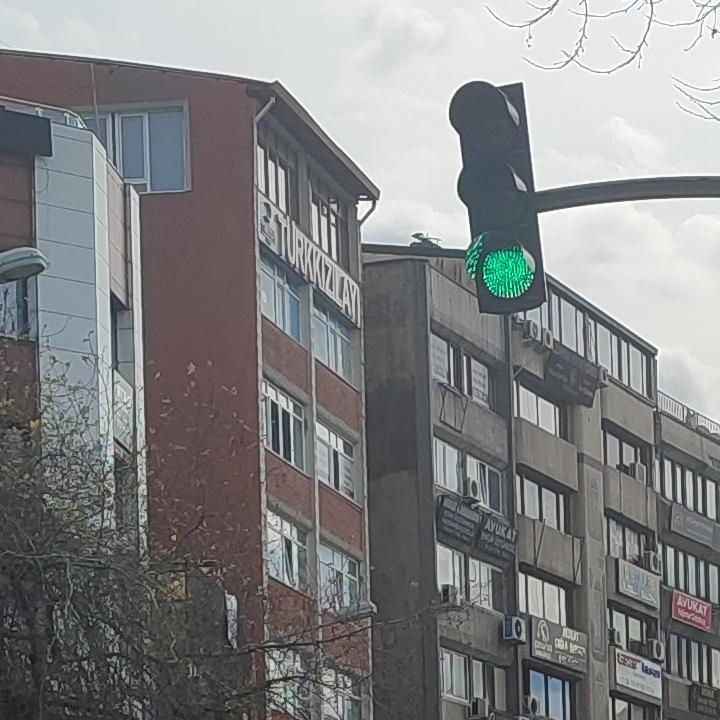green: (445, 80, 543, 316)
